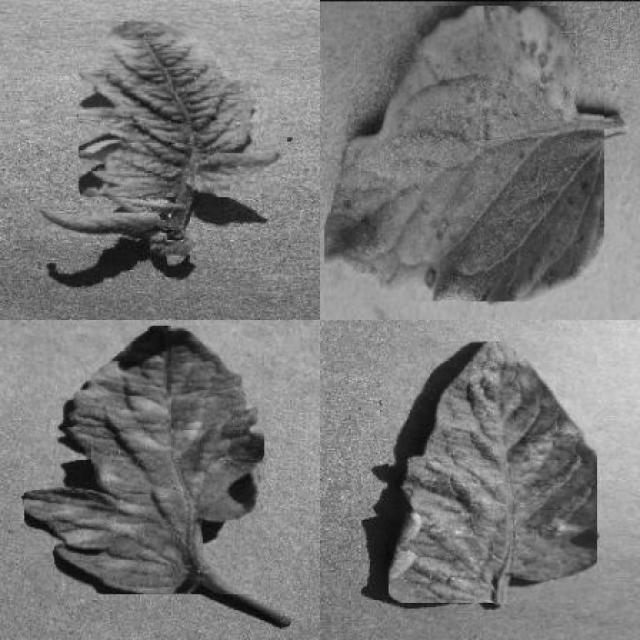Leaf Mold: (25, 326, 265, 594)
Septoria: (325, 6, 605, 301)
Spider Mites: (388, 341, 598, 603)
Yellow Leaf Curl Virus: (78, 22, 282, 197)
